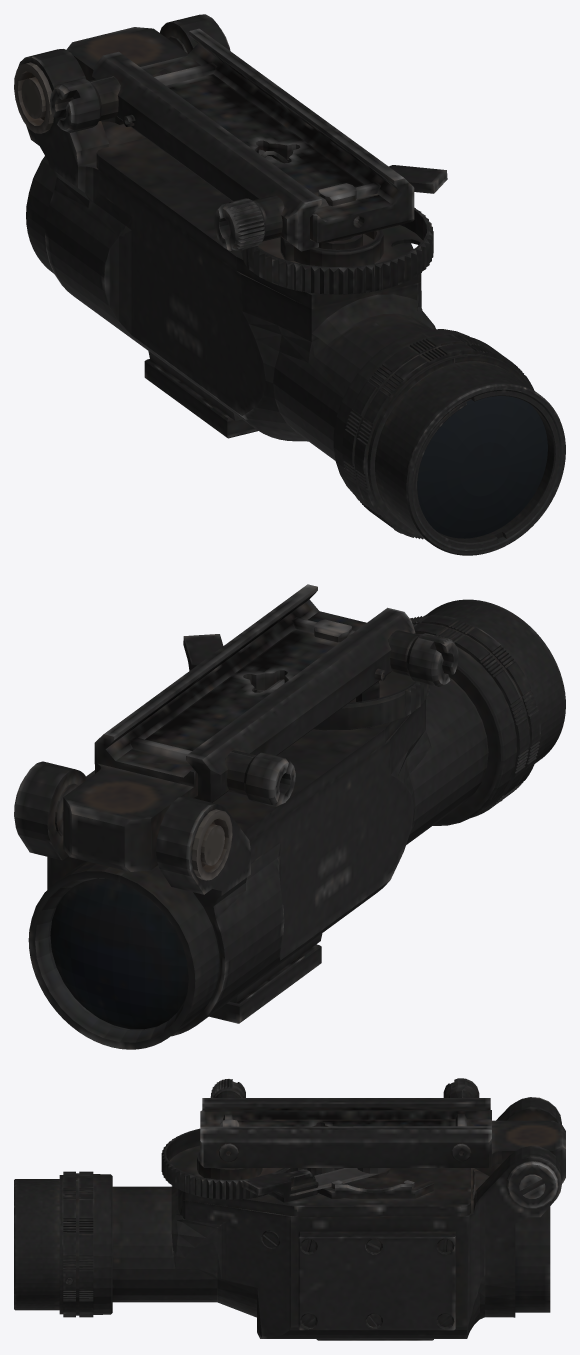
3 renders of one model, top to bottom at view 1: azimuth 30°, elevation 25°; view 2: azimuth 150°, elevation 25°; view 3: azimuth 270°, elevation 25°, orthographic. The views are drawn at different scales.
Visible parts, largest first — view 1: TW_5c0517910db83400232ffee5_PZ_Import; view 2: TW_5c0517910db83400232ffee5_PZ_Import; view 3: TW_5c0517910db83400232ffee5_PZ_Import.
Boxes of the visible parts, <box> form: TW_5c0517910db83400232ffee5_PZ_Import: <box>14,14,565,555</box>; TW_5c0517910db83400232ffee5_PZ_Import: <box>14,584,565,1049</box>; TW_5c0517910db83400232ffee5_PZ_Import: <box>14,1078,565,1340</box>.
Bounding box in the file's own units: 0.035 × 0.0962 × 0.0408.
Materials: 1 (1 with a texture image).
